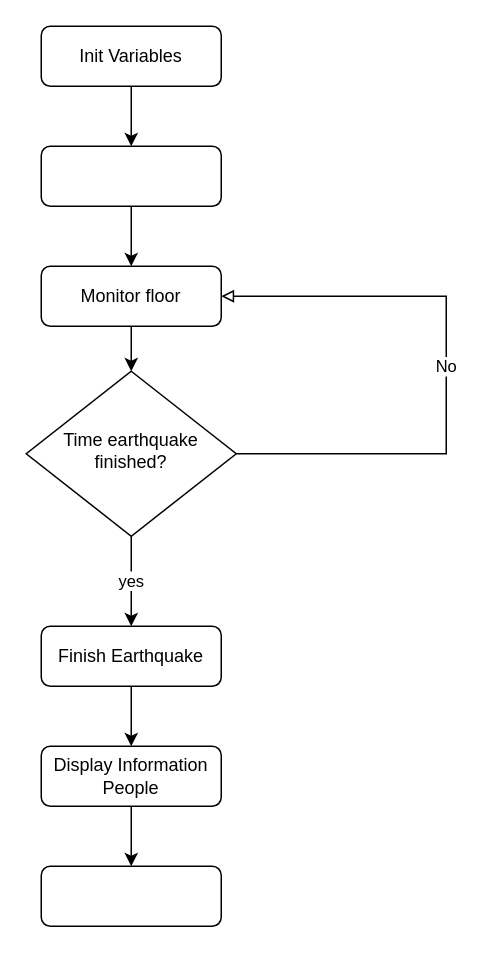
This 485x953 diagram has some shape labels left out. Here are the shapes that lost their labels. From the top down, the box of each, then its label:
(40, 145, 221, 206): Init Earthquake
(40, 865, 221, 926): Finish Process
